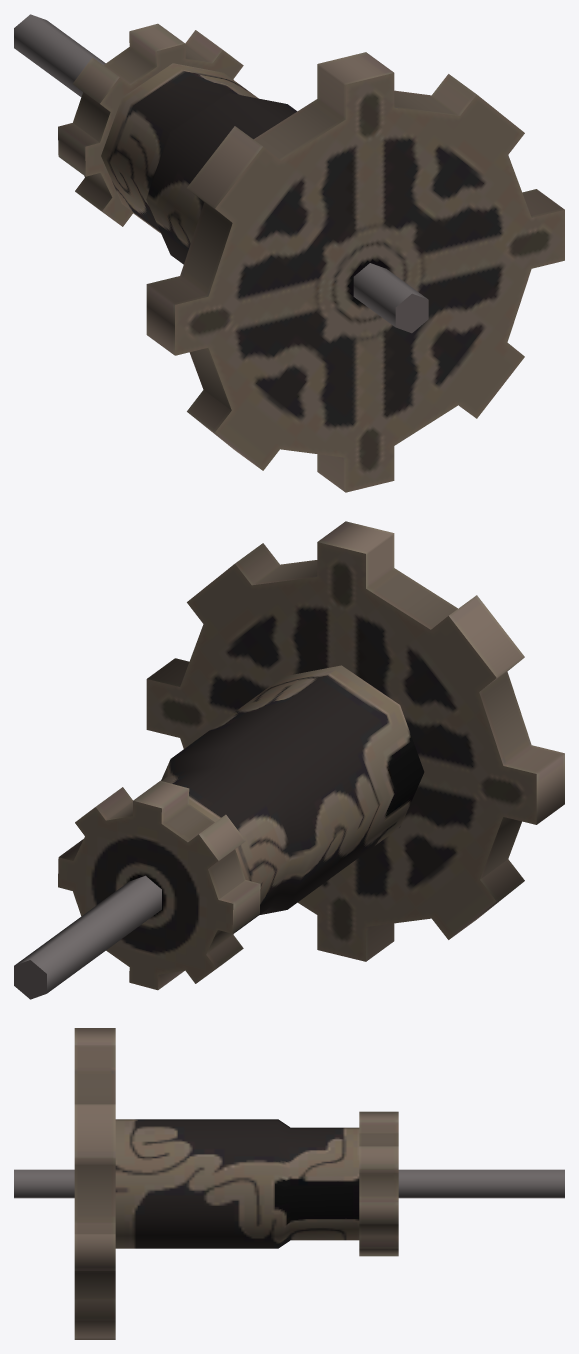
File: Item_Enemy_29.glb
3 renders of one model, top to bottom at view 1: azimuth 30°, elevation 25°; view 2: azimuth 150°, elevation 25°; view 3: azimuth 270°, elevation 25°, orthographic. The views are drawn at different scales.
Visible parts, largest first — view 1: Item_Enemy_29; view 2: Item_Enemy_29; view 3: Item_Enemy_29.
Boxes of the visible parts, x1,y1,x2,y2 form: Item_Enemy_29: (14,14,564,492); Item_Enemy_29: (14,521,564,999); Item_Enemy_29: (14,1028,564,1339).
Bounding box in the file's own units: 0.6396 × 0.6396 × 1.08.
Materials: 1 (1 with a texture image).
